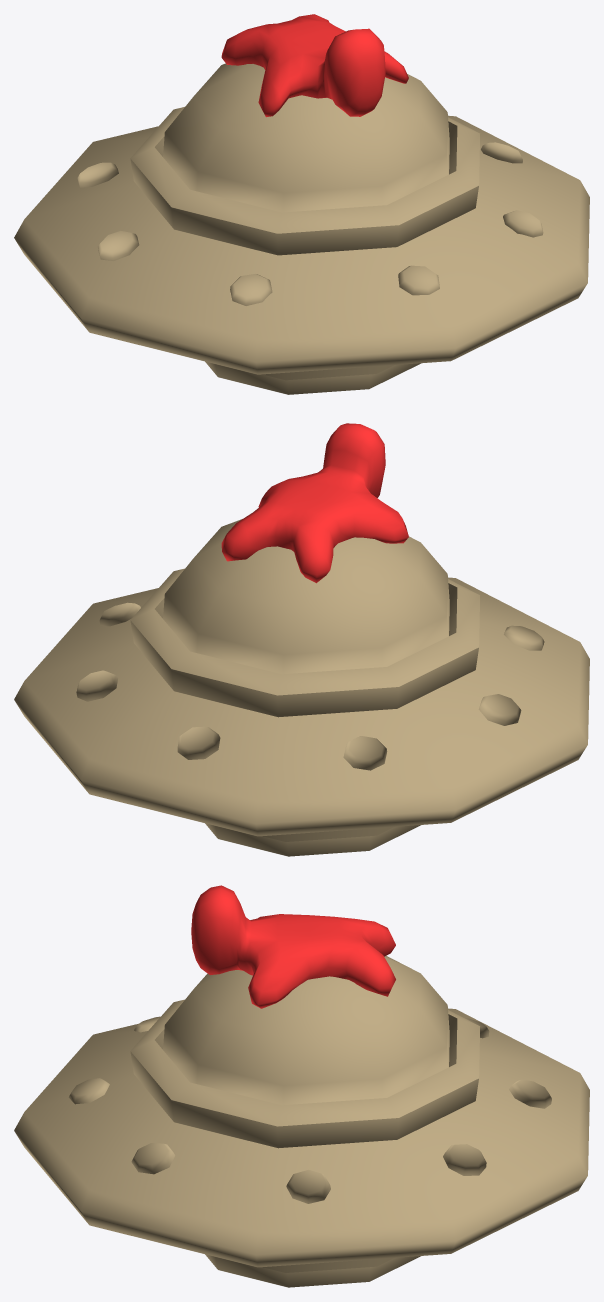
File: UFO1 1.fbx
3 renders of one model, top to bottom at view 1: azimuth 30°, elevation 25°; view 2: azimuth 150°, elevation 25°; view 3: azimuth 270°, elevation 25°, orthographic.
Parts seen in each view (by area): view 1: UFO, Object001; view 2: UFO, Object001; view 3: UFO, Object001.
Part boxes in pixels (<box>): UFO: <box>14,63,589,394</box>; Object001: <box>221,14,408,117</box>; UFO: <box>14,519,589,856</box>; Object001: <box>221,423,408,583</box>; UFO: <box>14,955,589,1287</box>; Object001: <box>191,885,395,1008</box>.
Size of the model in its own units: 287 by 189 by 284.
